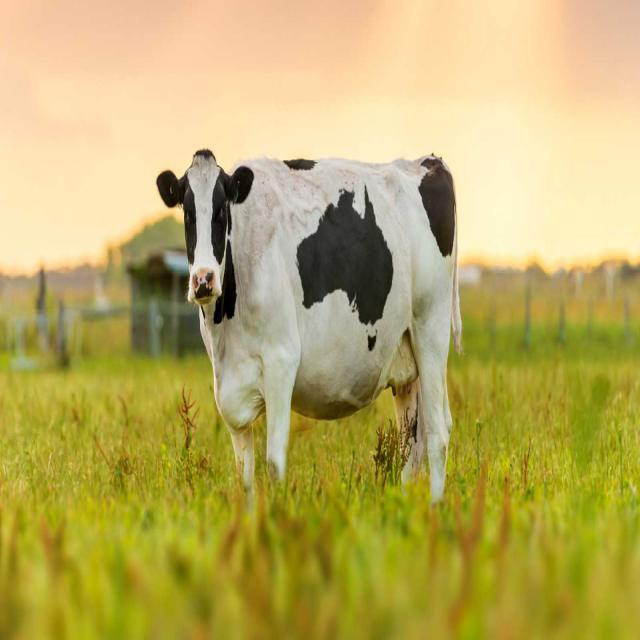Herbivorous: (154, 149, 462, 507)
